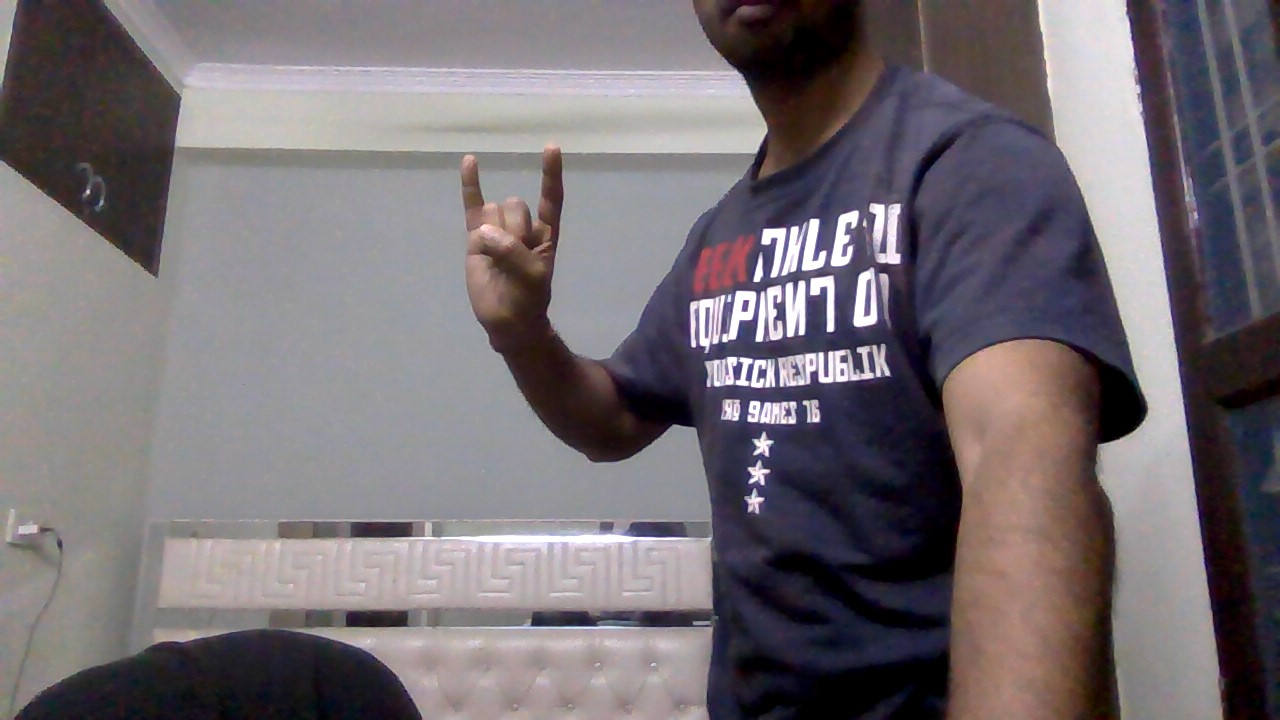Select All: (446, 138, 582, 334)
